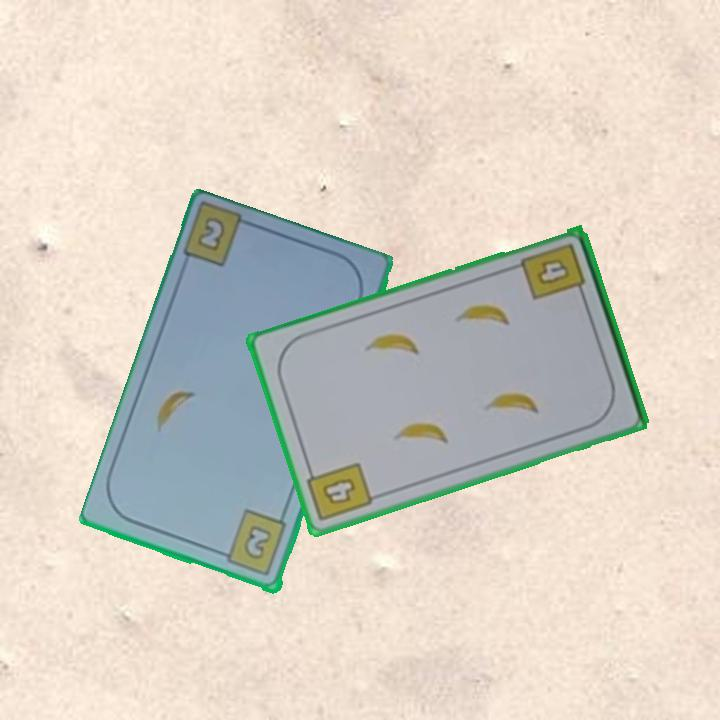2b: (215, 507, 290, 579), (194, 213, 229, 255)
4b: (303, 459, 376, 525), (518, 239, 589, 304)
